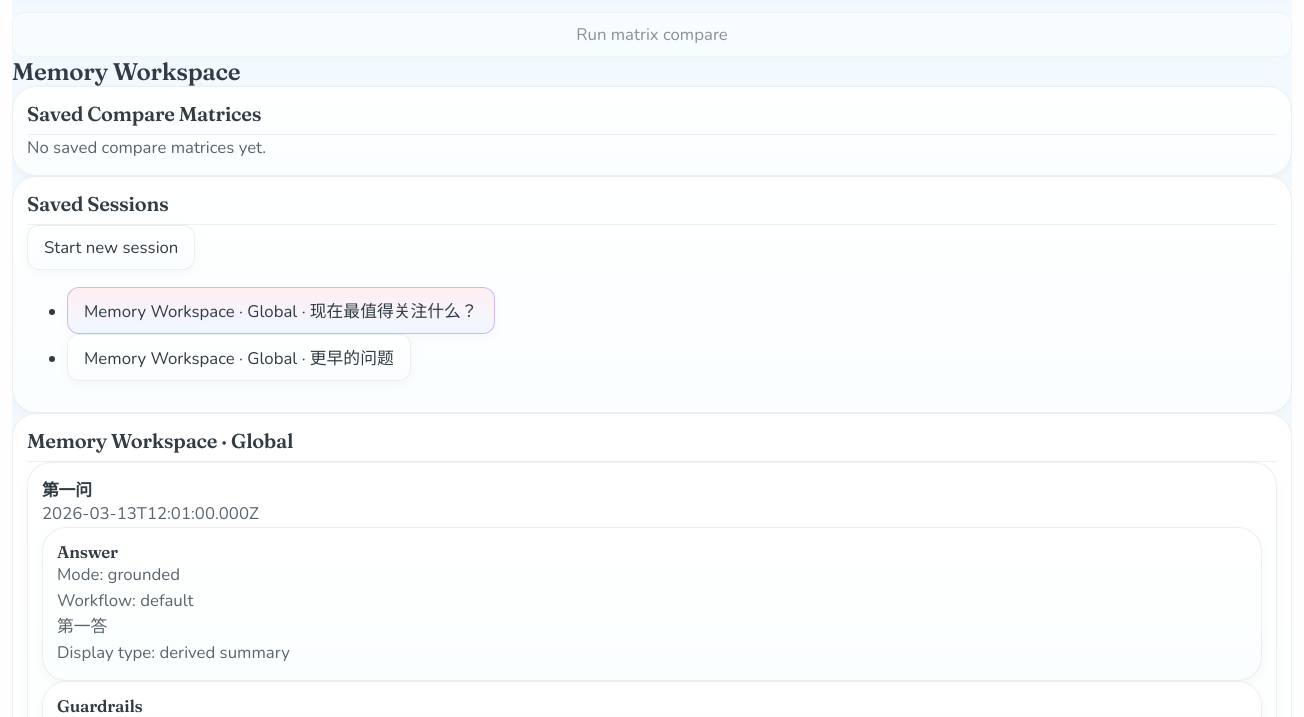
Test: MemoryWorkspacePage replay › loads saved sessions for a scope and replays the newest session by default
(page scrolled)
Expected: the heading "Saved Sessions" is shown, x1=27 y1=191 x2=1277 y2=225
Expected: the text "Mode: grounded" is shown, x1=57 y1=563 x2=180 y2=586
Step 1. Click the button "Memory Workspace · Global · 更早的问题" → (239, 358), box x1=67 y1=334 x2=411 y2=381
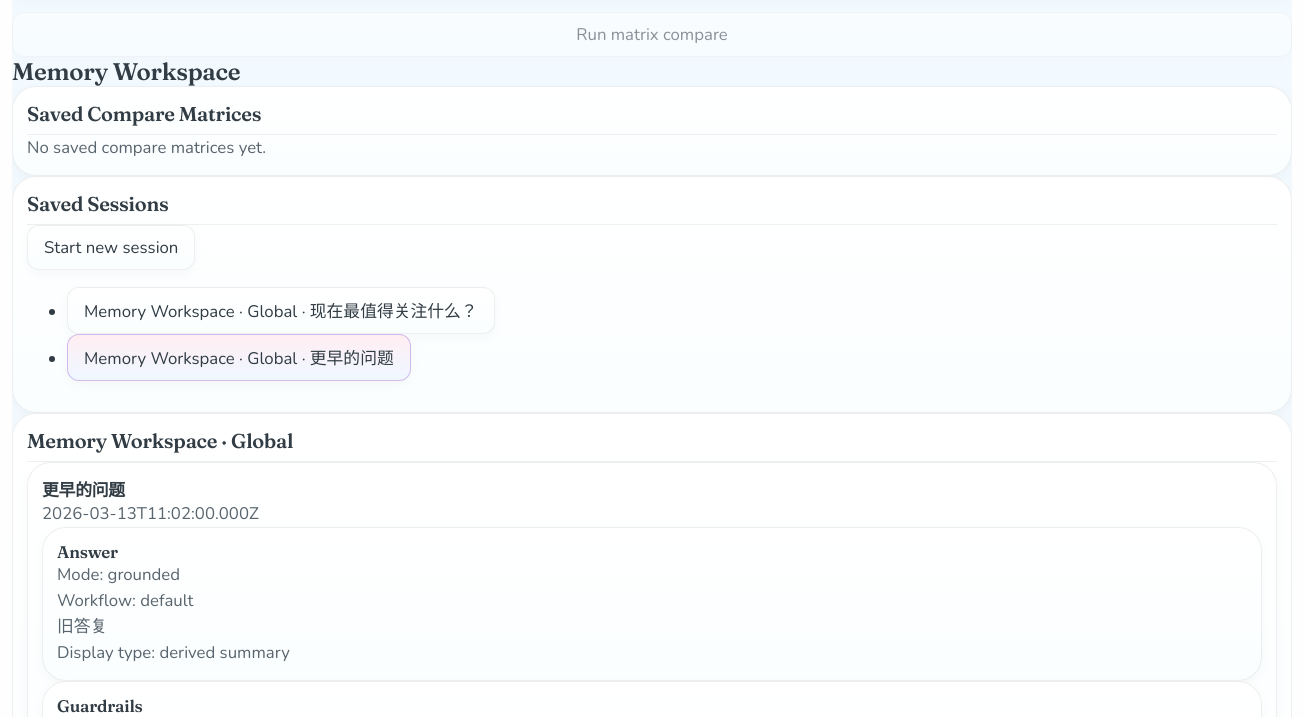
Now the text "旧答复" is shown, box x1=57 y1=615 x2=107 y2=638
